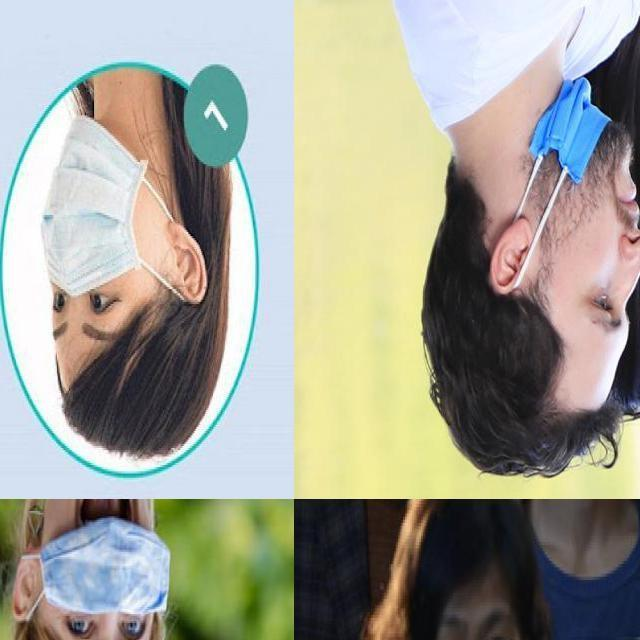hairnet: (524, 78, 640, 258), (33, 499, 162, 598)
